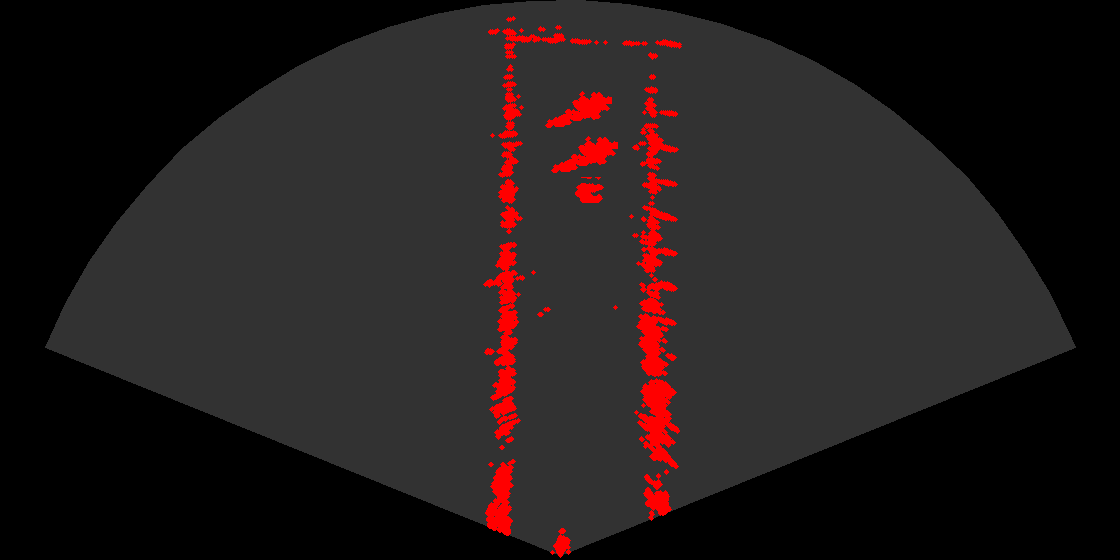ball: (555, 165, 615, 206)
frogman: (544, 85, 612, 132), (550, 130, 618, 177)
